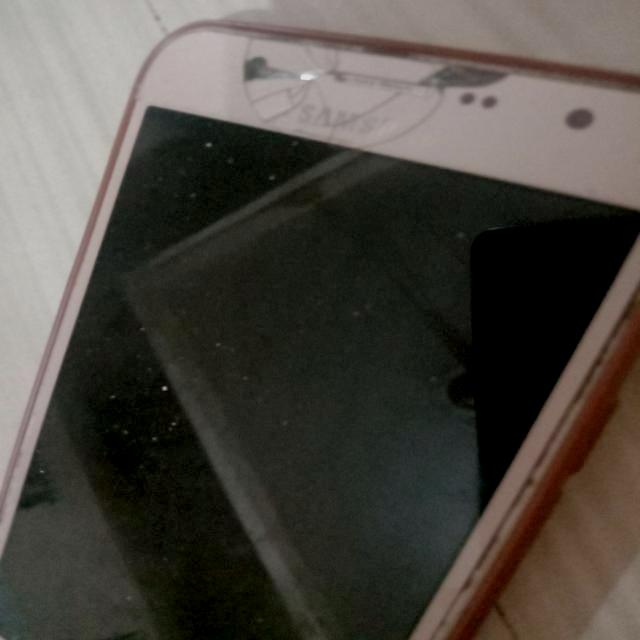phone: (47, 8, 630, 638)
